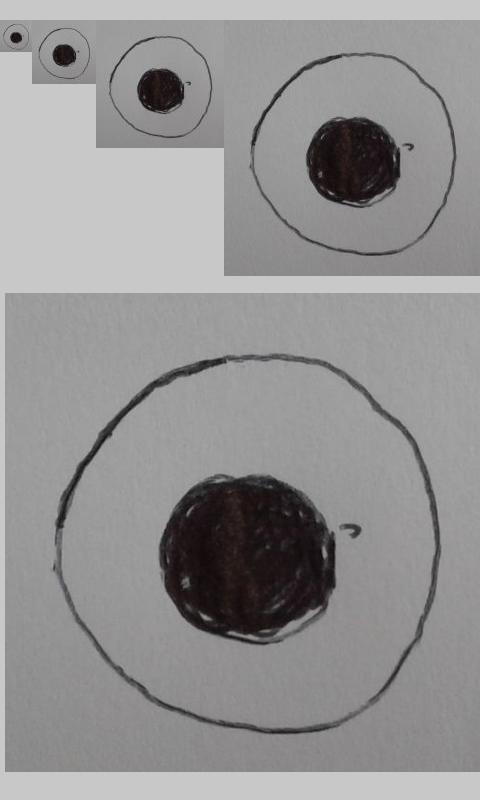radio_button: (49, 350, 442, 736), (249, 51, 458, 258), (108, 36, 214, 139), (37, 26, 91, 80), (2, 23, 30, 51)
